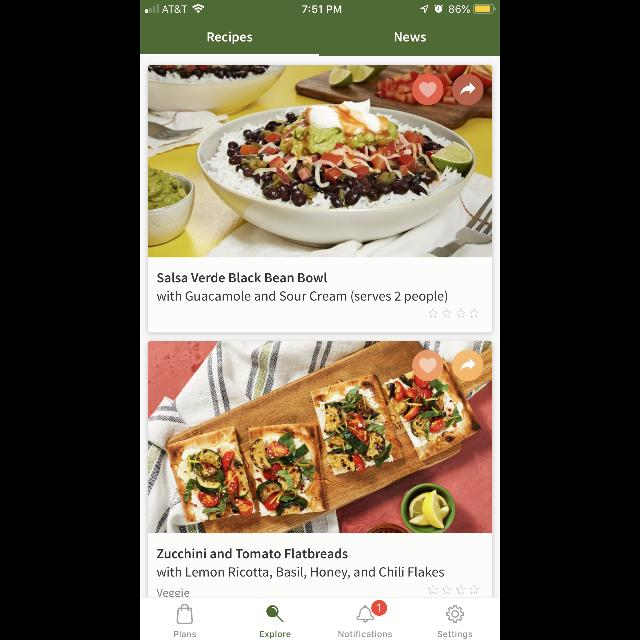icon: (412, 74, 443, 106), (452, 74, 483, 106), (412, 351, 443, 382), (452, 351, 483, 382), (357, 600, 387, 622), (428, 584, 478, 594), (428, 308, 478, 318), (177, 604, 193, 624), (446, 606, 464, 622), (266, 606, 284, 622)
image: (148, 66, 492, 258), (148, 341, 492, 533)
text: (157, 290, 447, 304), (158, 566, 444, 580), (158, 548, 348, 558), (157, 273, 327, 283), (208, 32, 252, 44), (338, 630, 392, 638), (394, 32, 426, 42), (438, 631, 472, 639), (157, 589, 189, 597), (260, 631, 290, 639), (174, 631, 196, 637)
uppertaskbar: (140, 0, 500, 14)
